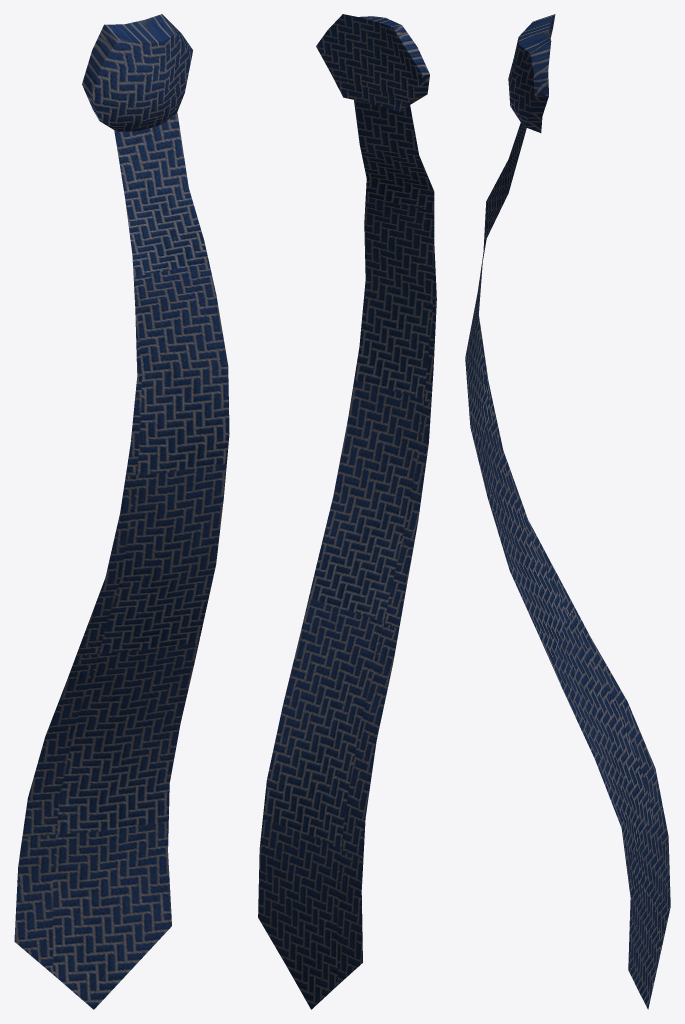
The model's file is Pose-7_SuitTie-3.fbx.
3 views of the same model, side by side, from view 1: azimuth 30°, elevation 25°; view 2: azimuth 150°, elevation 25°; view 3: azimuth 270°, elevation 25° (orthographic). The views are drawn at different scales.
Parts seen in each view (by area): view 1: Pose-7_SuitTie-3; view 2: Pose-7_SuitTie-3; view 3: Pose-7_SuitTie-3.
Boxes of the visible parts, x1,y1,x2,y2 form: Pose-7_SuitTie-3: [14, 14, 229, 1009]; Pose-7_SuitTie-3: [258, 14, 436, 1009]; Pose-7_SuitTie-3: [465, 14, 670, 1009].
Size of the model in its own units: 6.73 by 49.01 by 9.34.
